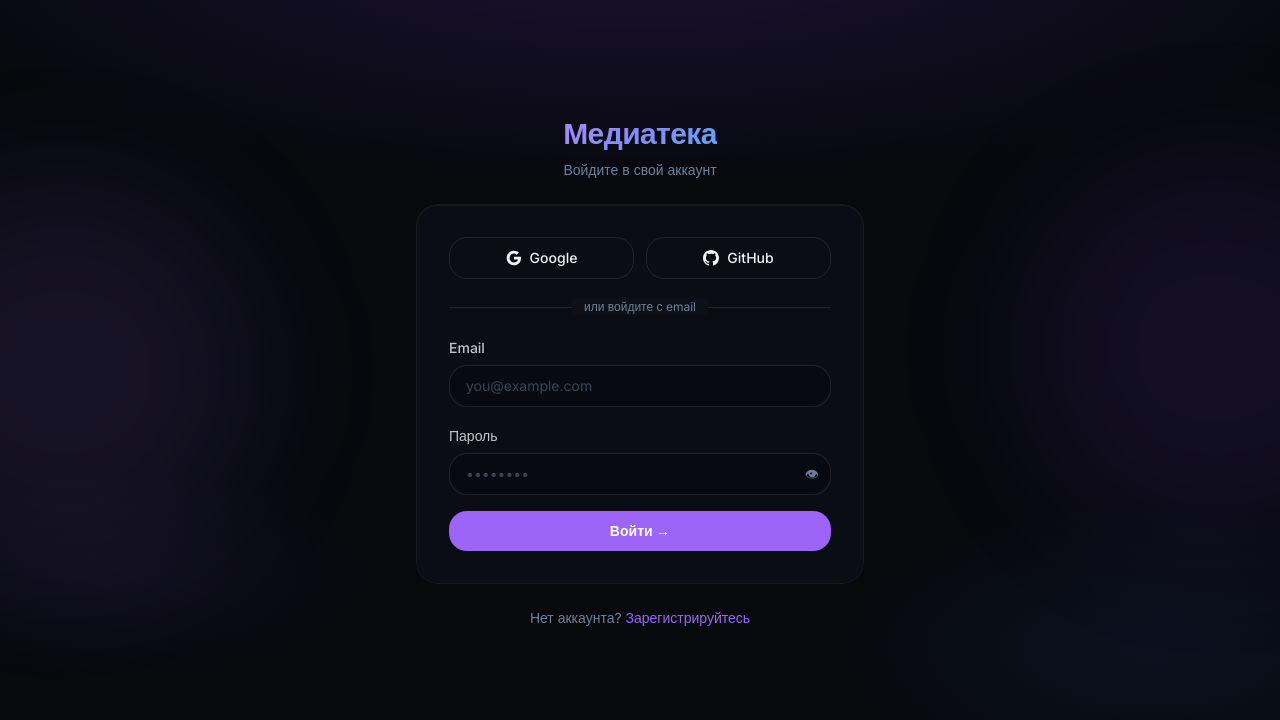
Test: LoginPage › shows validation errors for empty form
Click the button "Войти →".
click(640, 531)  # box [449,511,831,551]
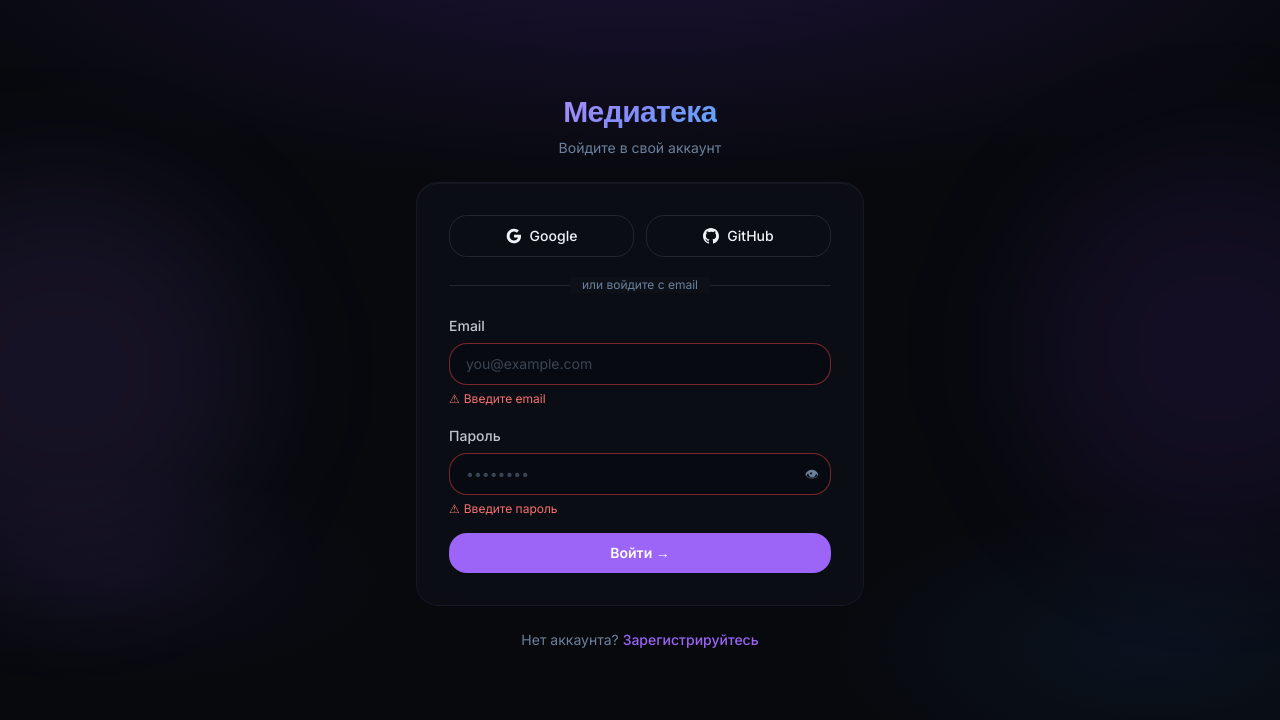
Check: the text "Введите email" is shown, box [464,391,546,406]
Check: the text "Введите пароль" is shown, box [464,501,558,516]
